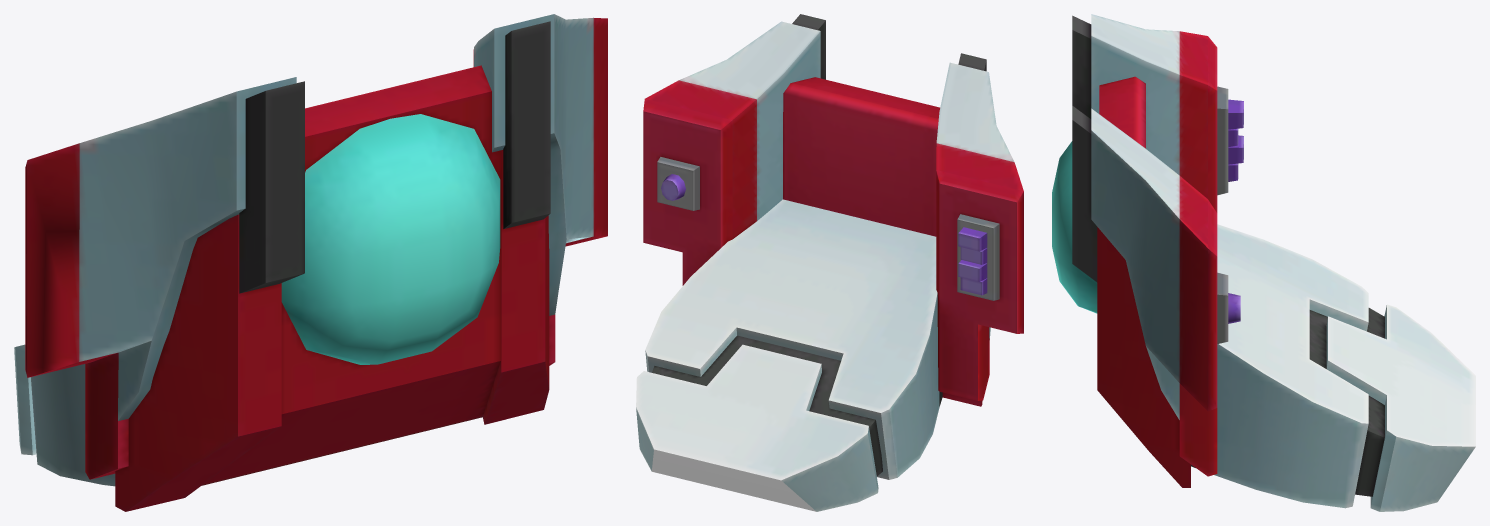
Rendered from SpaceChair.fbx.
The picture shows the model from 3 angles, left to right: view 1: azimuth 30°, elevation 25°; view 2: azimuth 150°, elevation 25°; view 3: azimuth 270°, elevation 25°; orthographic projection. The views are drawn at different scales.
Visible parts, largest first — view 1: SpaceChair; view 2: SpaceChair; view 3: SpaceChair.
Boxes of the visible parts, <box> form: SpaceChair: <box>14,14,607,511</box>; SpaceChair: <box>636,14,1023,511</box>; SpaceChair: <box>1052,14,1475,511</box>.
Bounding box in the file's own units: 106 × 90.44 × 89.4.
